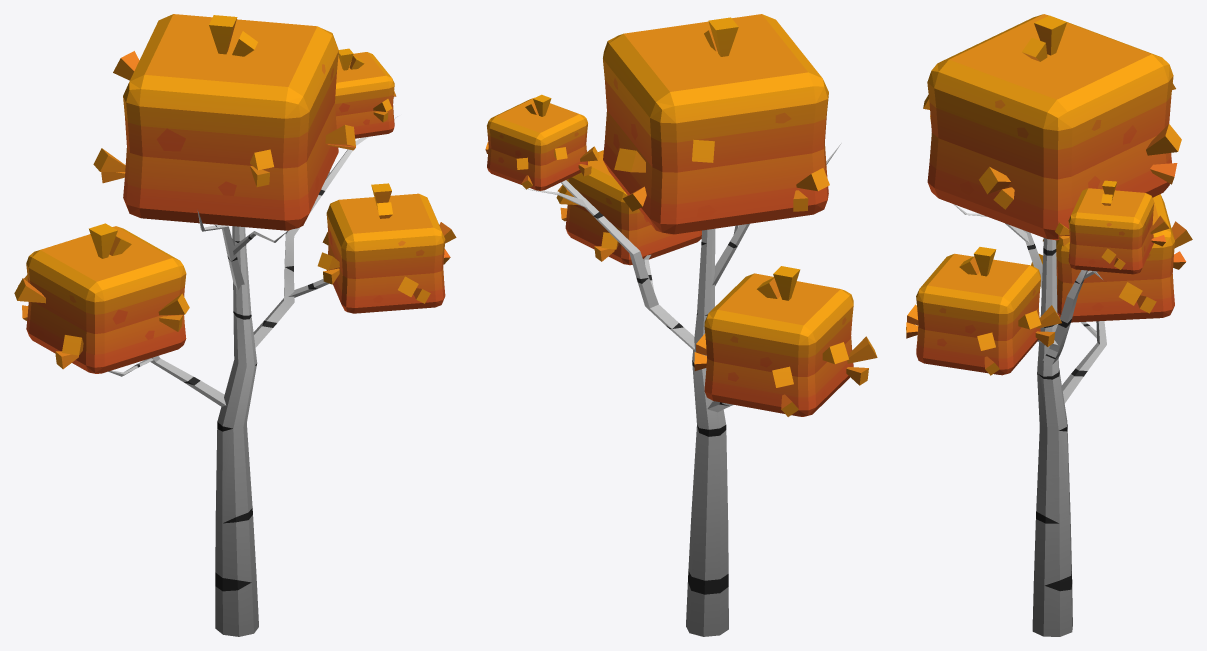
Rendered from birch1.glb.
The picture shows the model from 3 angles, left to right: view 1: azimuth 30°, elevation 25°; view 2: azimuth 150°, elevation 25°; view 3: azimuth 270°, elevation 25°; orthographic projection. The views are drawn at different scales.
Parts seen in each view (by area): view 1: birch1; view 2: birch1; view 3: birch1.
Boxes of the visible parts, x1=… form: birch1: x1=14, y1=14, x2=456, y2=636; birch1: x1=485, y1=14, x2=877, y2=636; birch1: x1=906, y1=14, x2=1192, y2=636.
Size of the model in its own units: 4.45 by 6.98 by 3.03.
1 material, 1 textured.
